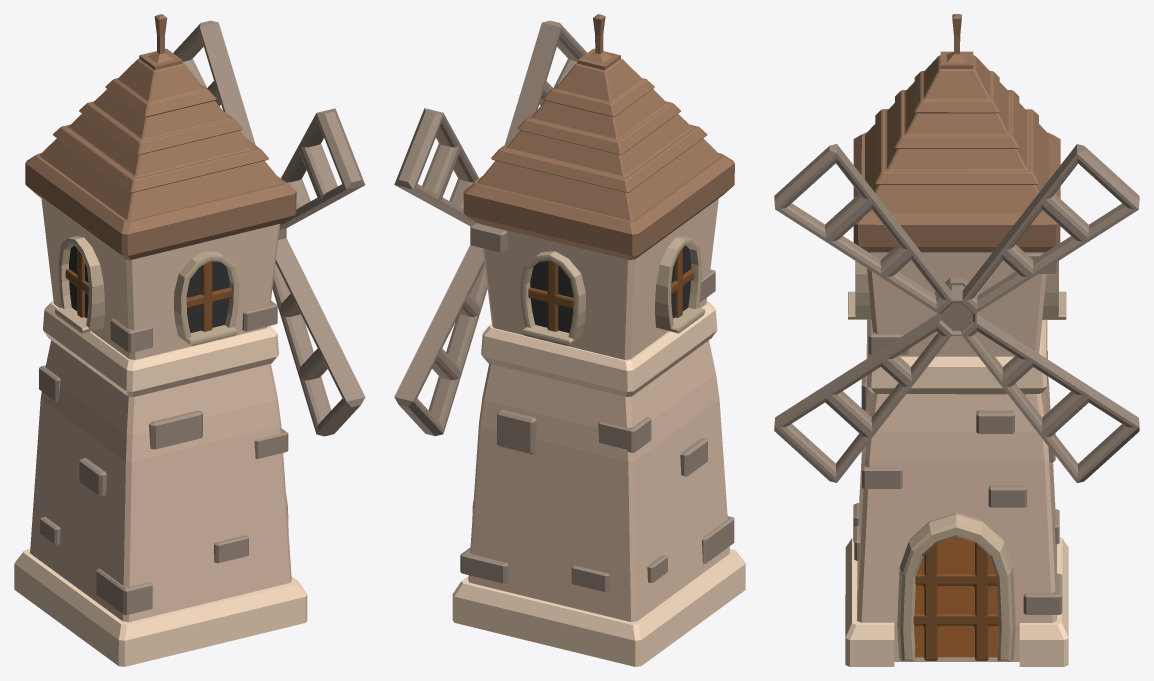
Rendered from WindMill.fbx.
3 views of the same model, side by side, from view 1: azimuth 30°, elevation 25°; view 2: azimuth 150°, elevation 25°; view 3: azimuth 270°, elevation 25° (orthographic). The views are drawn at different scales.
Visible parts, largest first — view 1: Cube.033, Cube.001; view 2: Cube.033, Cube.001; view 3: Cube.033, Cube.001.
Boxes of the visible parts, box(x1,y1,x2,y2) form: Cube.033: box(14, 14, 307, 666); Cube.001: box(173, 20, 365, 436); Cube.033: box(452, 14, 745, 666); Cube.001: box(394, 20, 586, 436); Cube.033: box(845, 14, 1068, 666); Cube.001: box(774, 144, 1139, 482).
Size of the model in its own units: 132 by 352 by 193.
